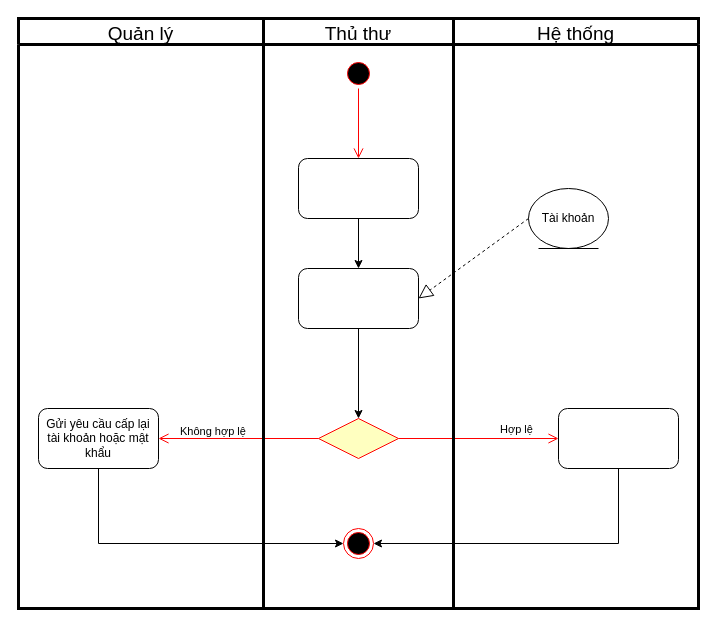
Image size: 717x627. Some labels were removed from this diagram. Each missing label, with the centre of its shape:
Nhập tài khoản và mật khẩu: the point at 358,298
Thông báo đăng nhập thành công: the point at 618,438
Vào hệ thống phần mềm: the point at 358,188
